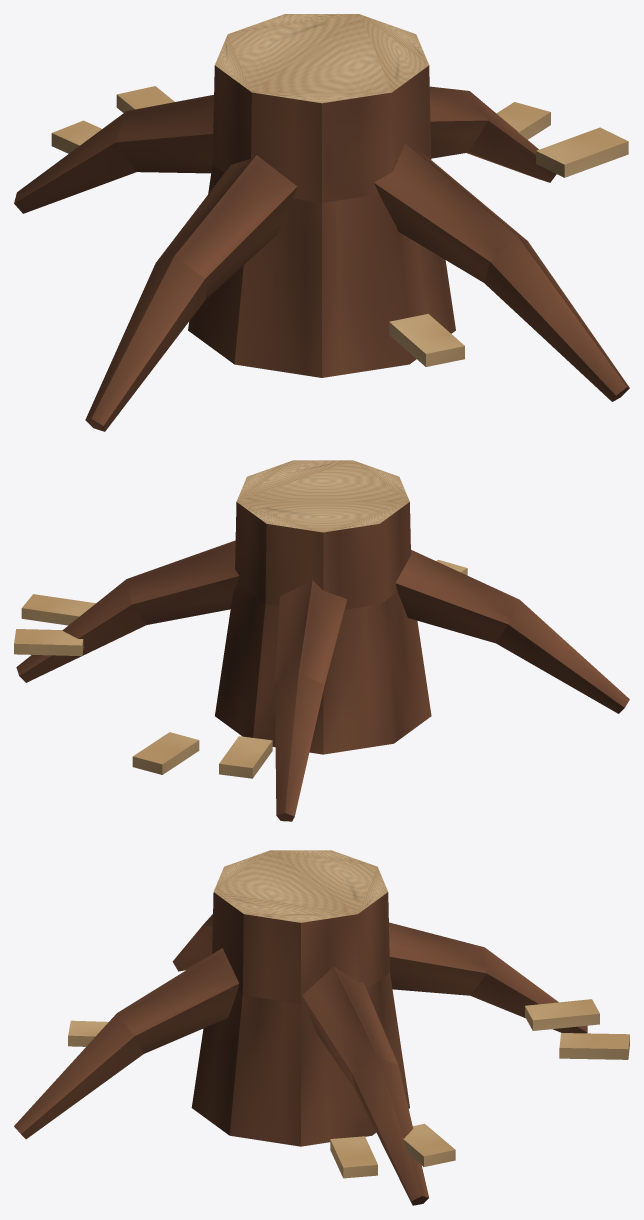
File: SM_Tree_Pine_Small01_Stump.fbx
The picture shows the model from 3 angles, top to bottom: view 1: azimuth 30°, elevation 25°; view 2: azimuth 150°, elevation 25°; view 3: azimuth 270°, elevation 25°; orthographic projection. The views are drawn at different scales.
Parts seen in each view (by area): view 1: SM_Tree_Pine_Small01_Stump; view 2: SM_Tree_Pine_Small01_Stump; view 3: SM_Tree_Pine_Small01_Stump.
Part boxes in pixels (<box>): SM_Tree_Pine_Small01_Stump: <box>14,14,629,431</box>; SM_Tree_Pine_Small01_Stump: <box>14,460,629,821</box>; SM_Tree_Pine_Small01_Stump: <box>14,850,629,1205</box>.
Bounding box in the file's own units: 3.04 × 1.2 × 3.12.
Materials: 1 (1 with a texture image).
